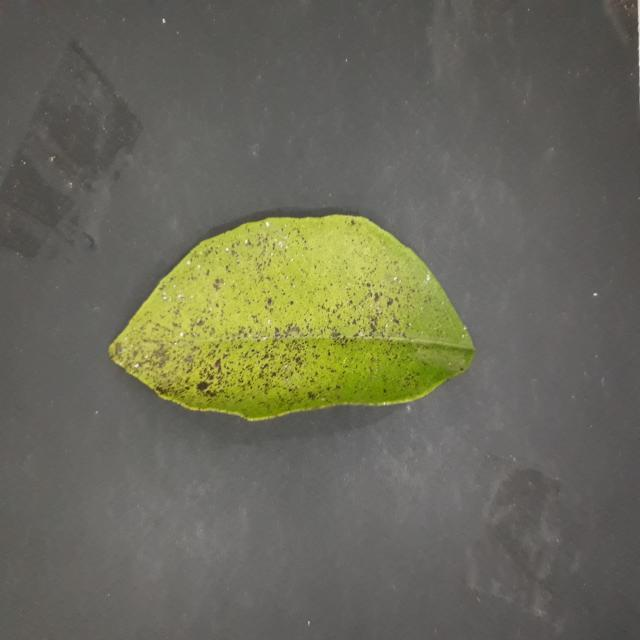greasy_spot: (109, 215, 474, 419)
